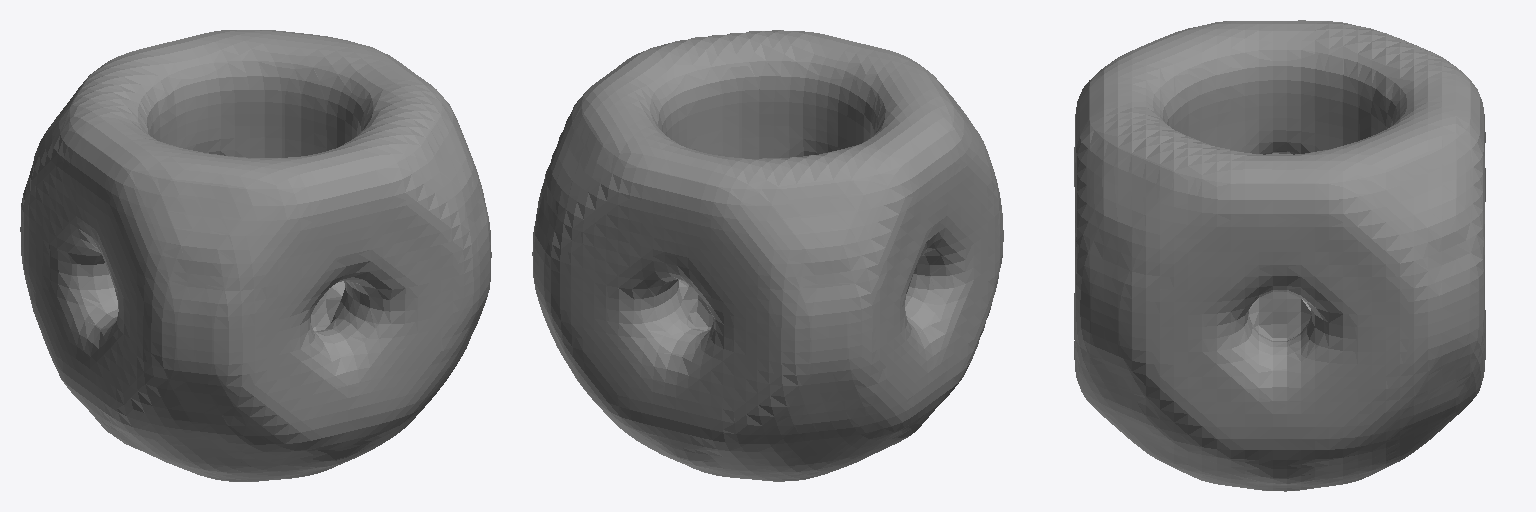
The robot description file, URDF, robot "cube.urdf":
<?xml version="0.0" ?> 
<robot name="cube.urdf"> 
<link name="legobrick"> 
<contact> 
<lateral_friction value="5.0"/> 
<rolling_friction value="0.0"/> 
<contact_cfm value="0.0"/> 
<contact_erp value="1.0"/> 
</contact> 
<inertial> 
<origin rpy="0 0 0" xyz="0.0 0.0 0.0"/> 
<mass value=".01"/> 
<inertia ixx="1" ixy="0" ixz="0" iyy="1" iyz="0" izz="1"/> 
</inertial> 
<visual> 
<origin rpy="1.570796 0 0" xyz="-0.025862322617152707 0.025836660065788924 -0.028778301261604824"/> 
<geometry> 
<mesh filename="H08_0.obj" scale="0.0006998977213213669 0.0006998977213213669 0.0006998977213213669"/> 
</geometry> 
<material name="yellow"> 
<color rgba="0.6 0.6 0.6 1"/> 
</material> 
</visual> 
<collision> 
<origin rpy="1.570796 0 0" xyz="-0.025862322617152707 0.025836660065788924 -0.028778301261604824"/> 
<geometry> 
<mesh filename="H08_0.obj" scale="0.0006998977213213669 0.0006998977213213669 0.0006998977213213669"/> 
</geometry> 
</collision> 
</link> 
</robot>

--- What the picture shows (computed from the rendered views, not written in the file) ---
3 views of the same robot in one strip: view 1: azimuth 30°, elevation 25°; view 2: azimuth 150°, elevation 25°; view 3: azimuth 270°, elevation 25° (orthographic).
Robot: cube.urdf — 1 links, 0 joints (none); root link legobrick; default pose: every joint at zero.
Visible links, largest first — view 1: legobrick; view 2: legobrick; view 3: legobrick.
Boxes of the visible links, x1,y1,x2,y2 form: legobrick: [20, 30, 491, 481]; legobrick: [532, 30, 1003, 481]; legobrick: [1074, 20, 1485, 491].
Bounding box of the posed robot: 0.056 × 0.056 × 0.056 m (x, y, z).
1 mesh visuals loaded from 1 distinct referenced files (1 OBJ).
